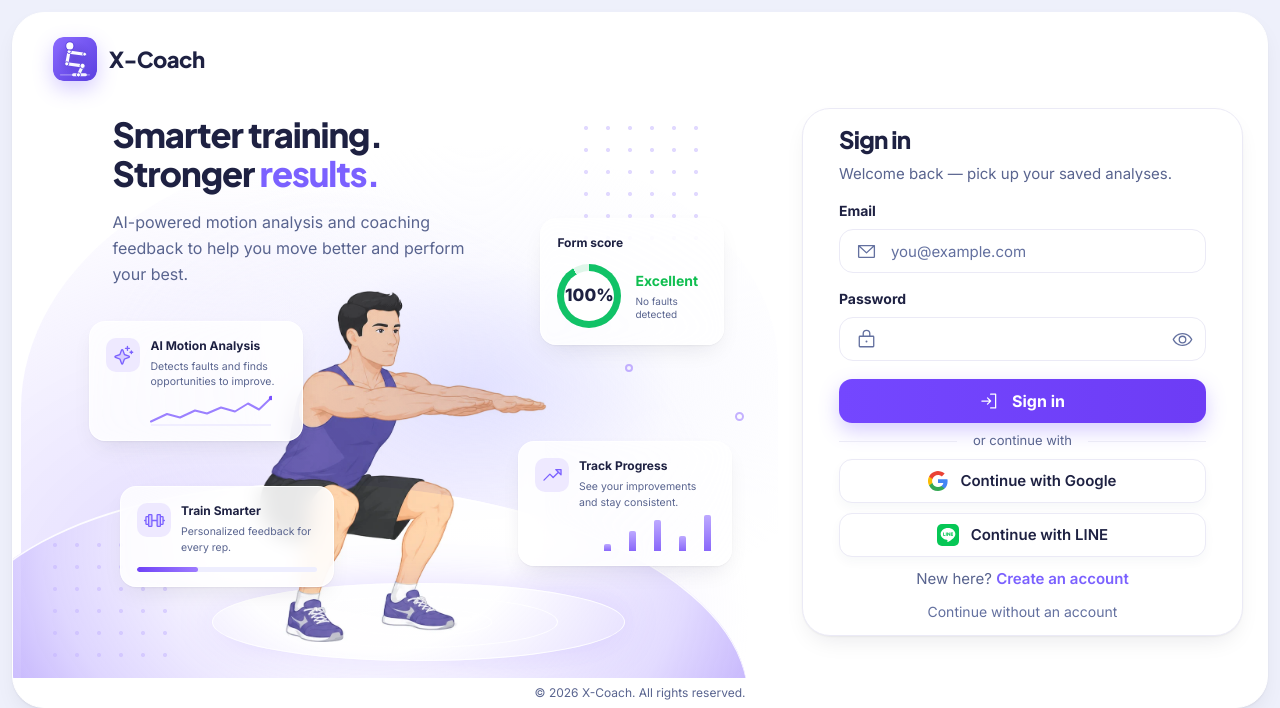
Login › shows an error when sign-in fails
The image size is (1280, 708).
In the field labelled "Email": (1041, 251) [877,230,1205,272], type "ada@x.com"
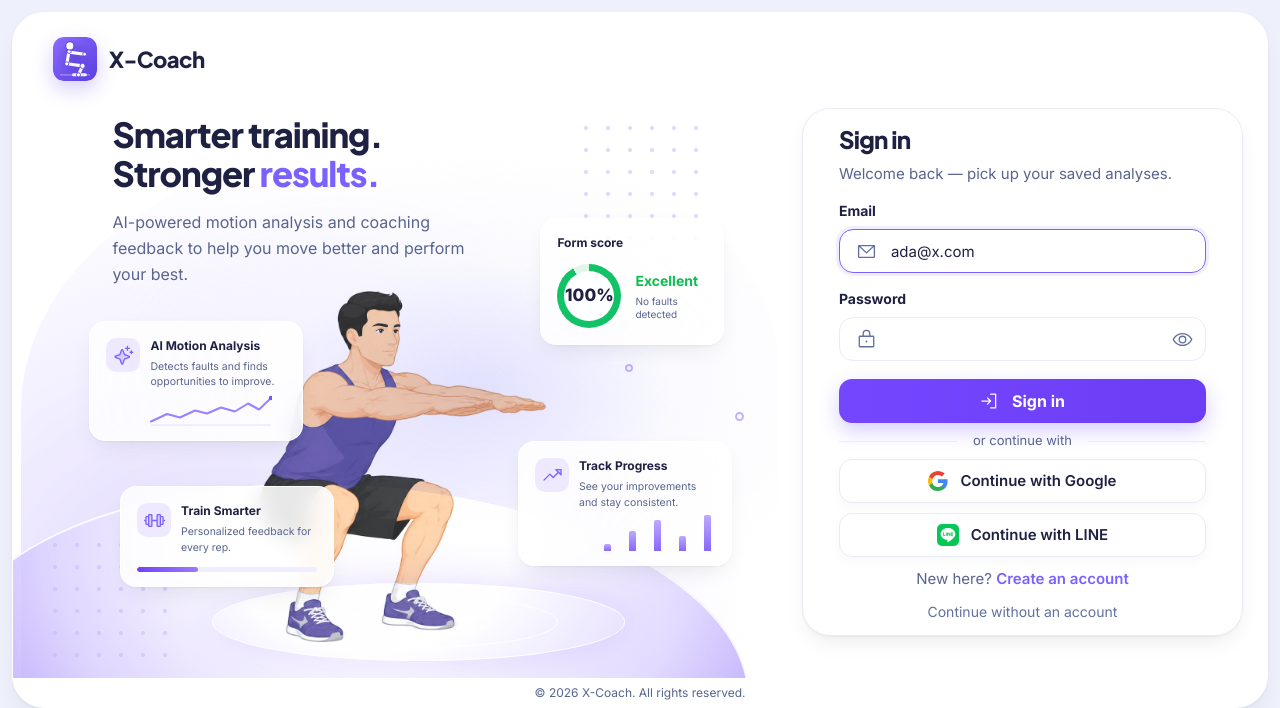
In the password field labelled "Password": (1019, 339) [877,318,1161,360], type "secret1"
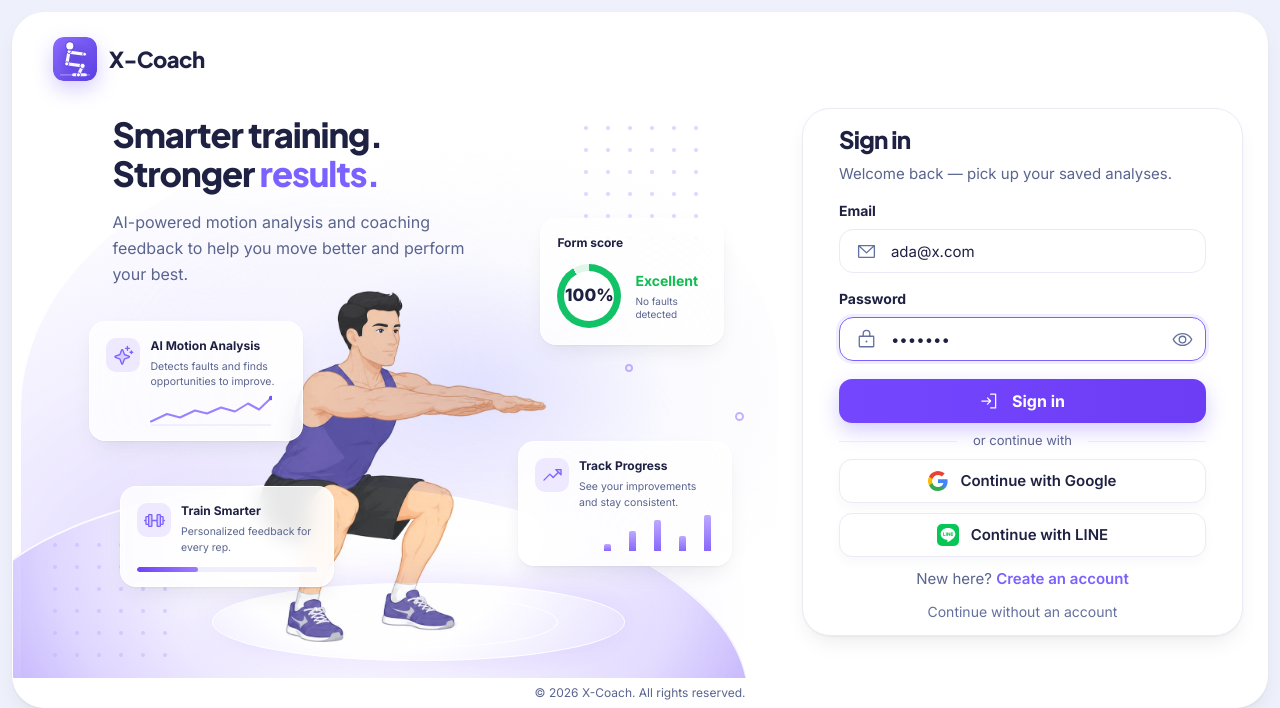
Click the button "Sign in": (1022, 402) [839,380,1206,424]
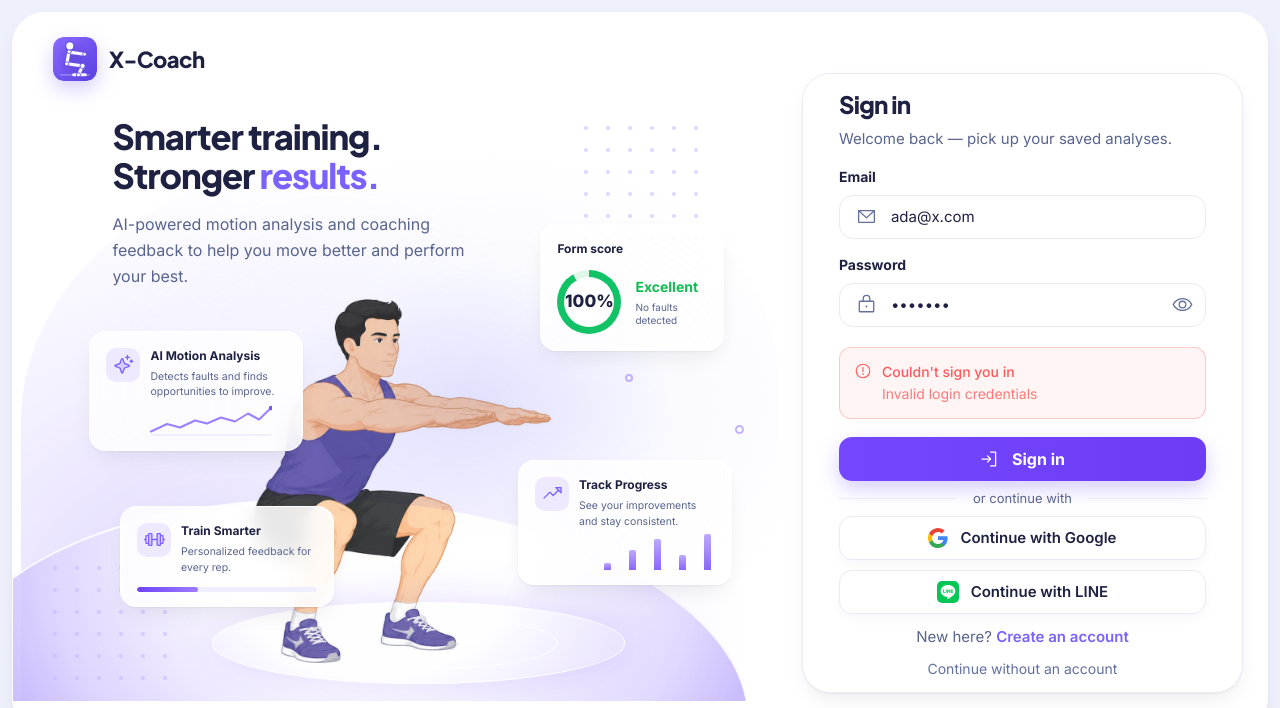
Expected: the text "Invalid login credentials" is shown, [882,384,1038,404]
